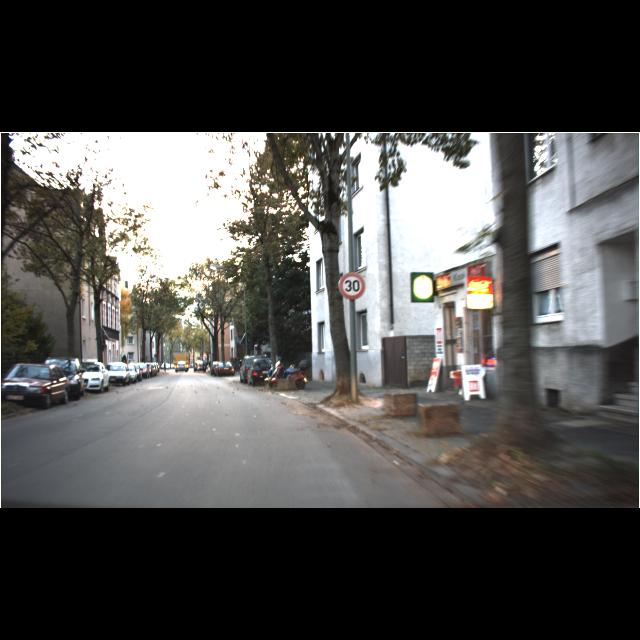prohibitory: (338, 272, 366, 300)
